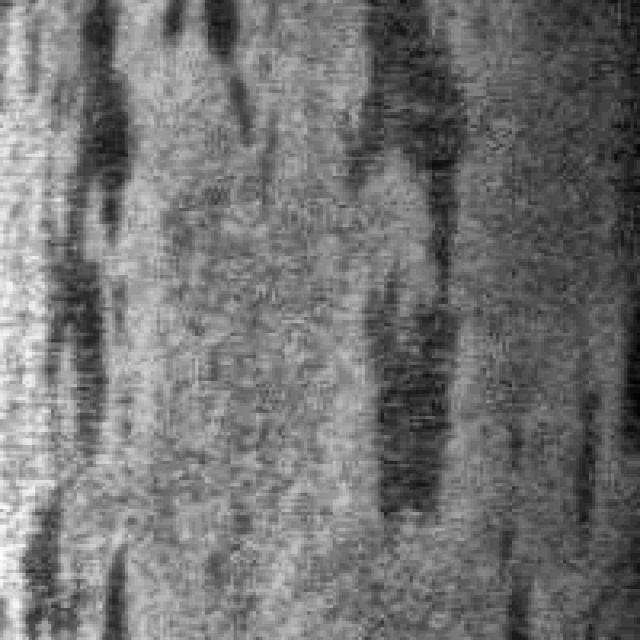Patches: (332, 3, 454, 531), (38, 6, 122, 452), (550, 333, 614, 557), (188, 0, 262, 144), (86, 538, 138, 636)
